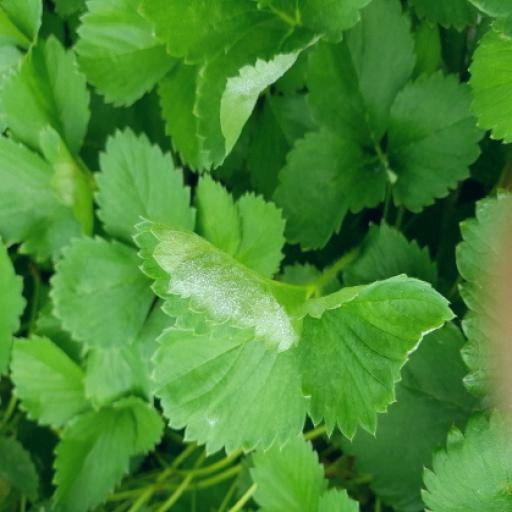Powdery Mildew Leaf: (53, 67, 224, 240), (211, 159, 381, 297), (203, 53, 365, 189), (185, 342, 322, 500)
